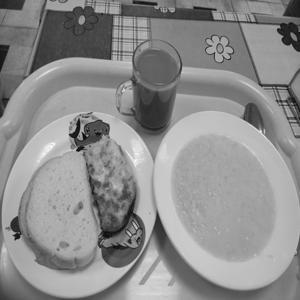bread: (21, 149, 107, 279)
cheese_sandwich: (76, 124, 154, 245)
coffee: (120, 21, 191, 141)
porridge: (165, 126, 288, 276)
